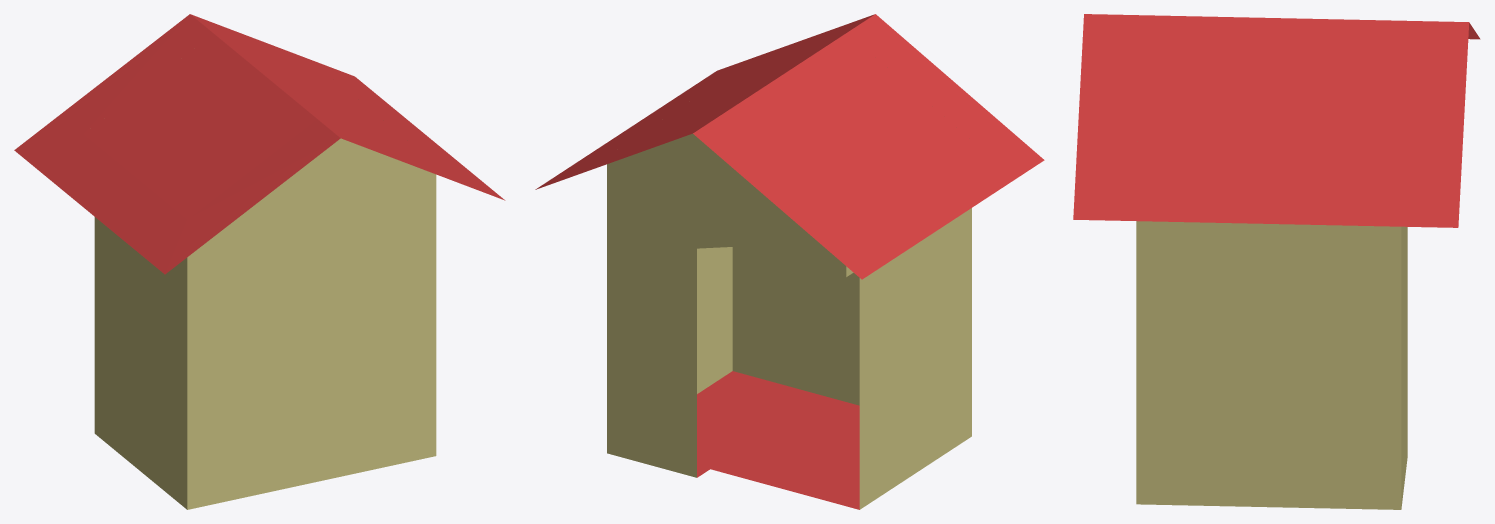
The picture shows the model from 3 angles, left to right: view 1: azimuth 30°, elevation 25°; view 2: azimuth 150°, elevation 25°; view 3: azimuth 270°, elevation 25°; orthographic projection. The views are drawn at different scales.
Size of the model in its own units: 11.61 by 10.17 by 11.65.
